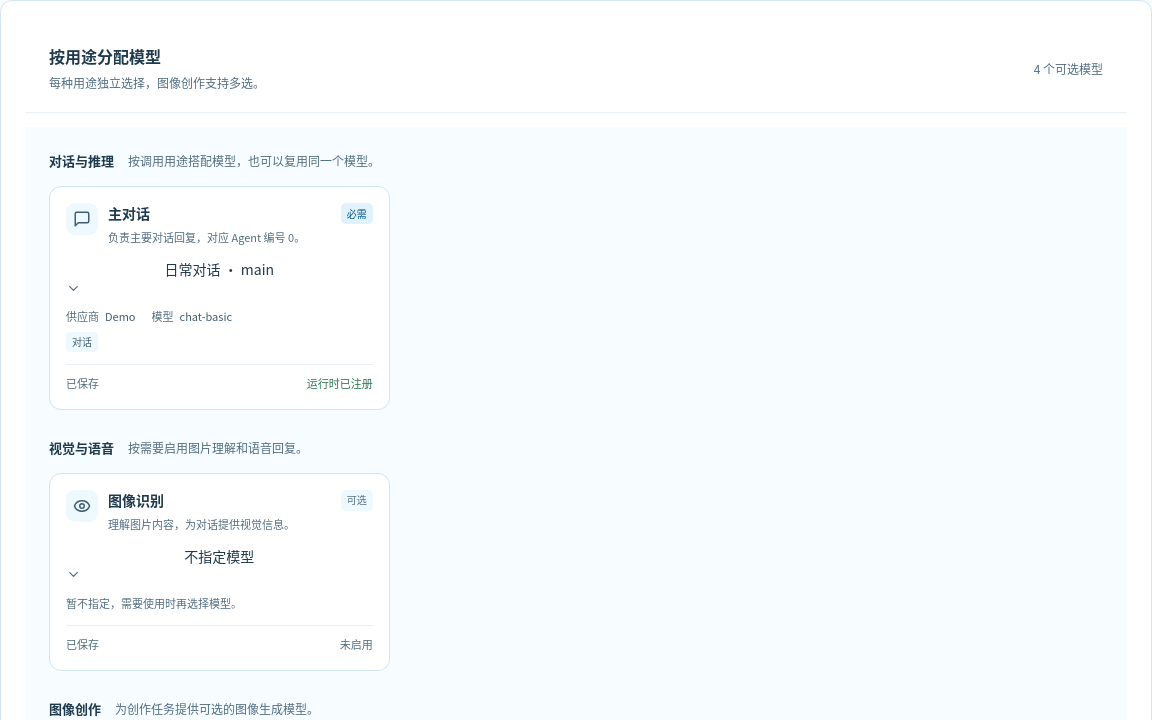
Test: AssignPanel 用途分配 › 保存单选与图像多选，采用返回的 models 视图并保留待重载提示
The width and height of the screenshot is (1152, 720).
Press ArrowDown in the dropdown named "主对话使用的模型", box [66,258,373,296]
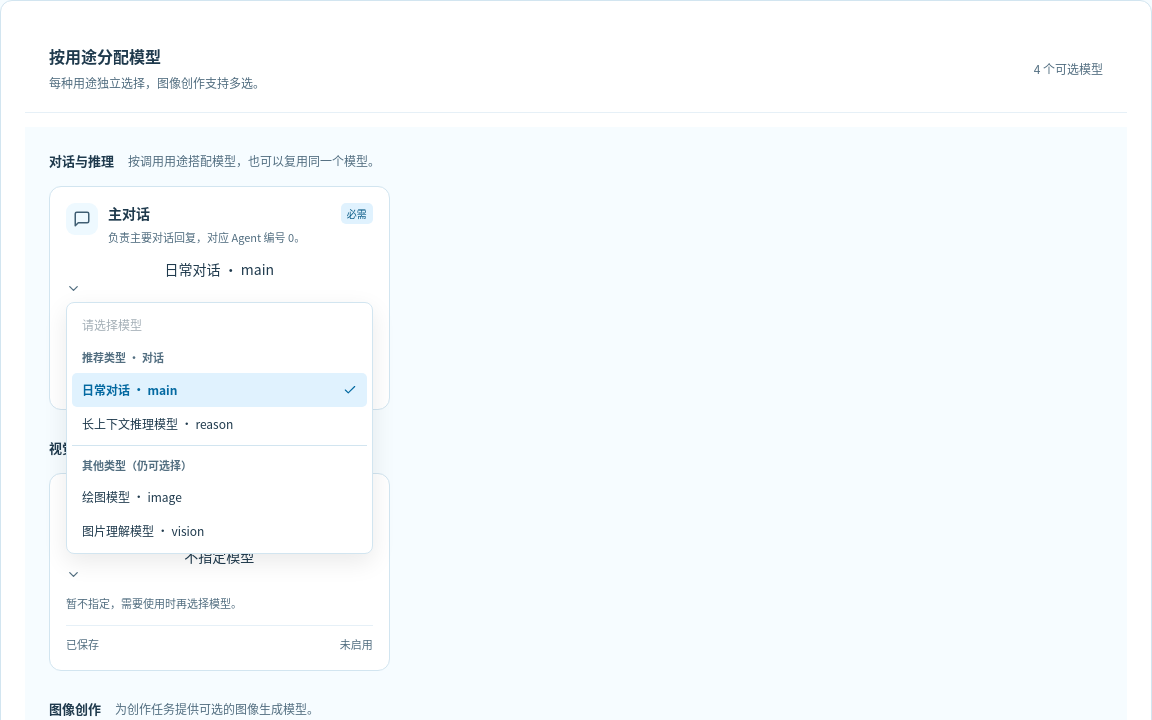
Press Enter in the option "长上下文推理模型 · reason", box [82,415,233,432]
(page scrolled)
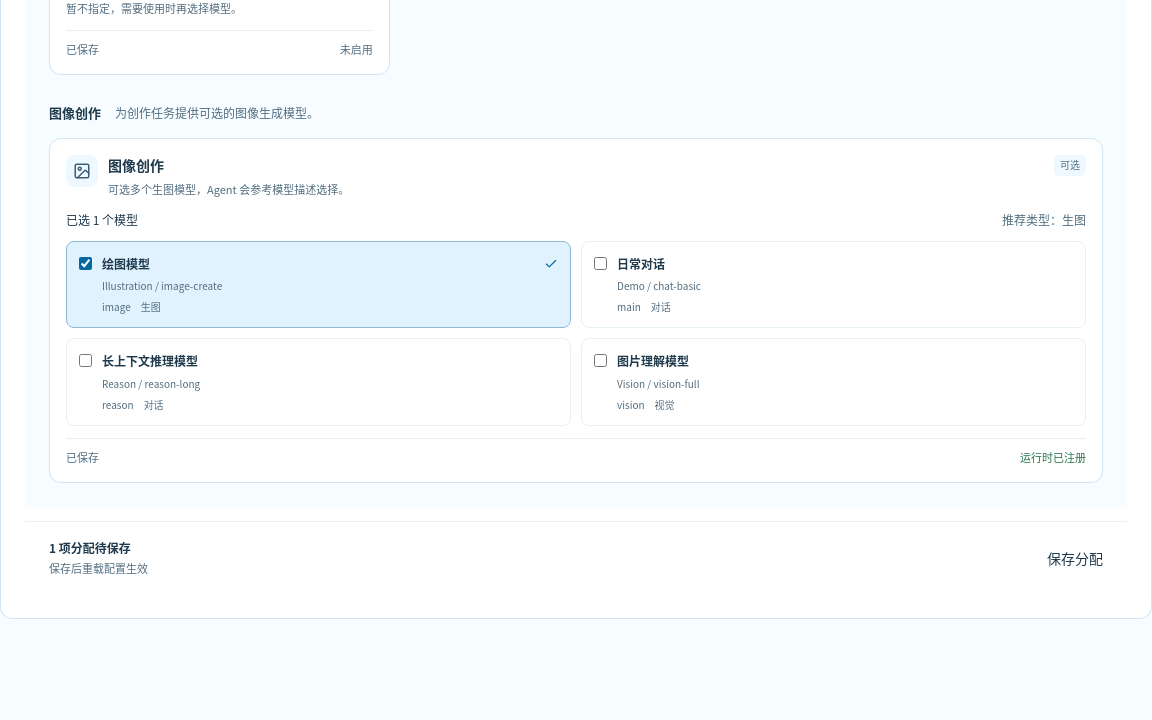
Click the checkbox named "图片理解模型 (vision)": coordinates (600, 361) [594,354,607,367]
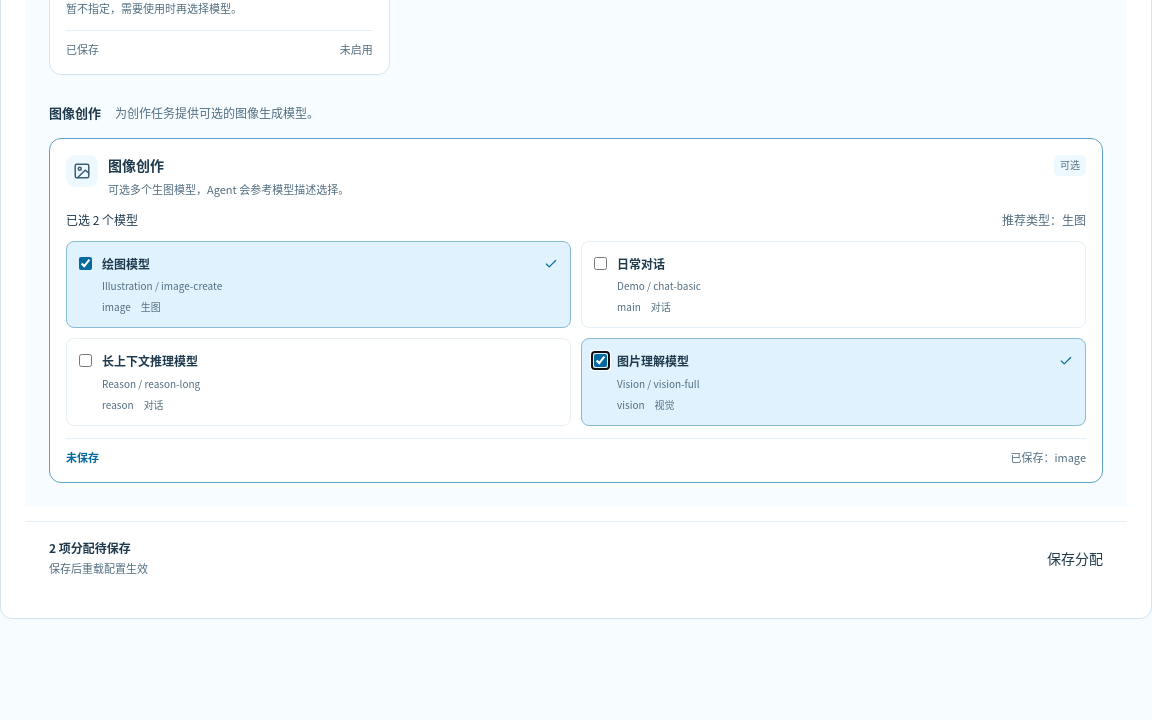
Click the button "保存分配": coordinates (1068, 558) [1033,547,1103,569]
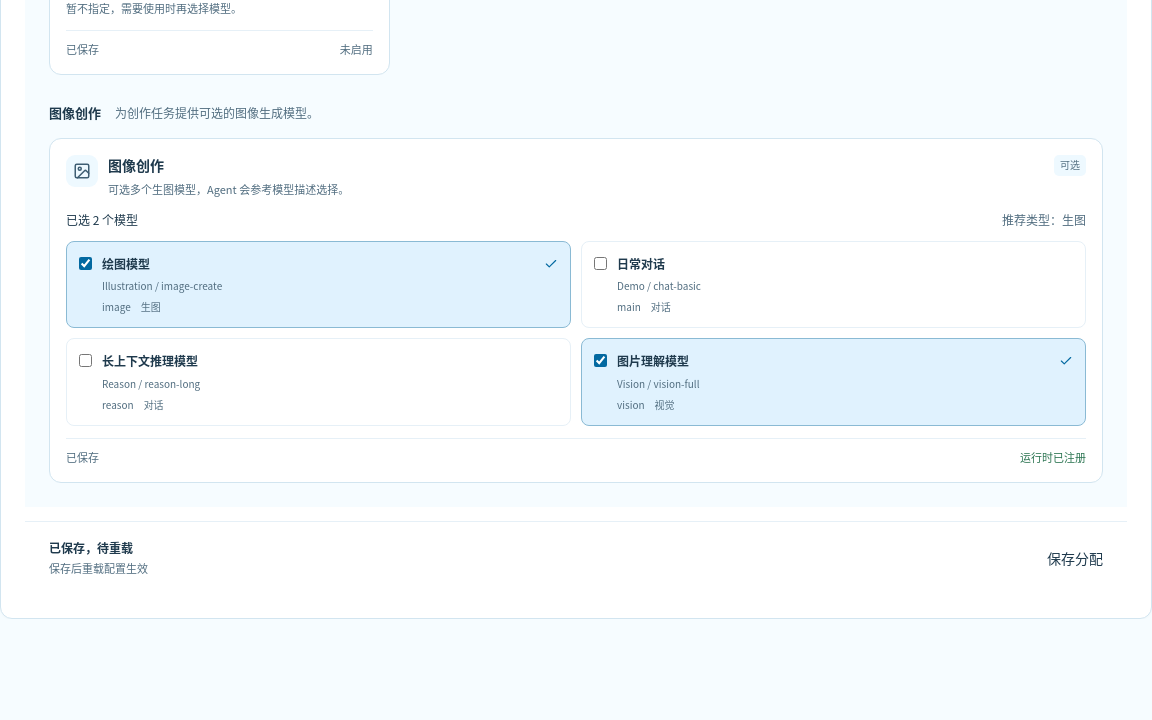
Check: the checkbox named "图片理解模型 (vision)" is checked, box [594,354,607,367]
Check: the text "已保存，待重载" is shown, box [49,539,133,556]
